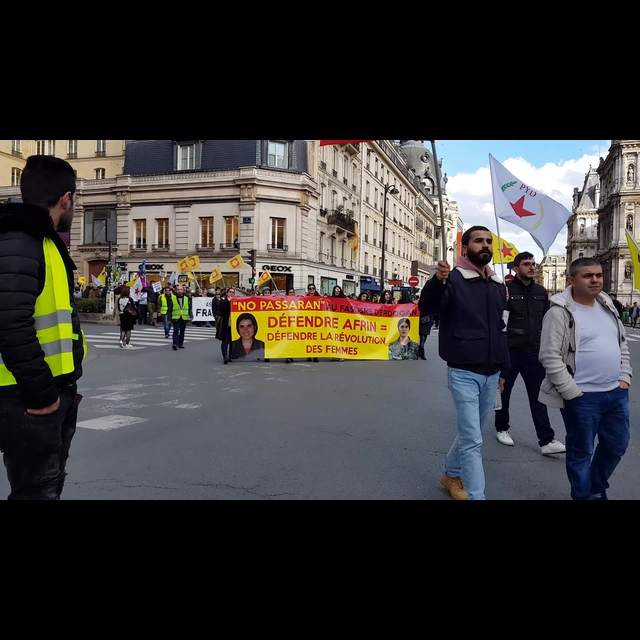PYD: (497, 173, 549, 235)
